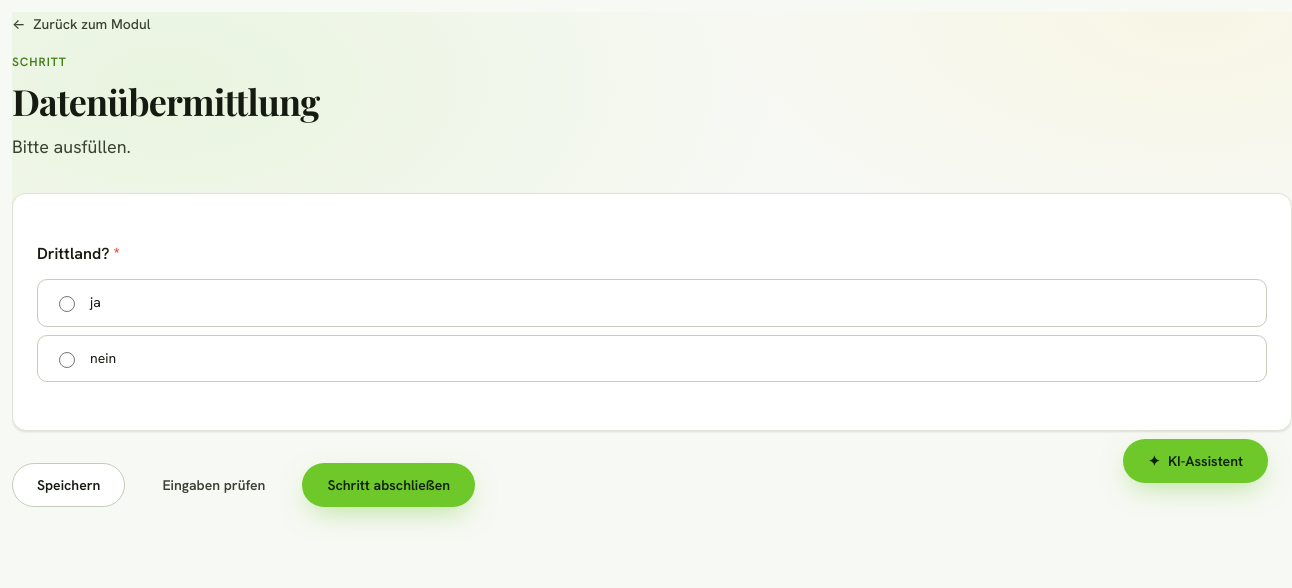
it: StepPage › renders inline validation errors from the save response
Check: the text "Drittland?" is shown, box [37, 243, 109, 264]
What coordinates should you click on to do the following:
click the button "Speichern"
I would click on:
 (69, 486)
Its box is [12, 464, 125, 508].
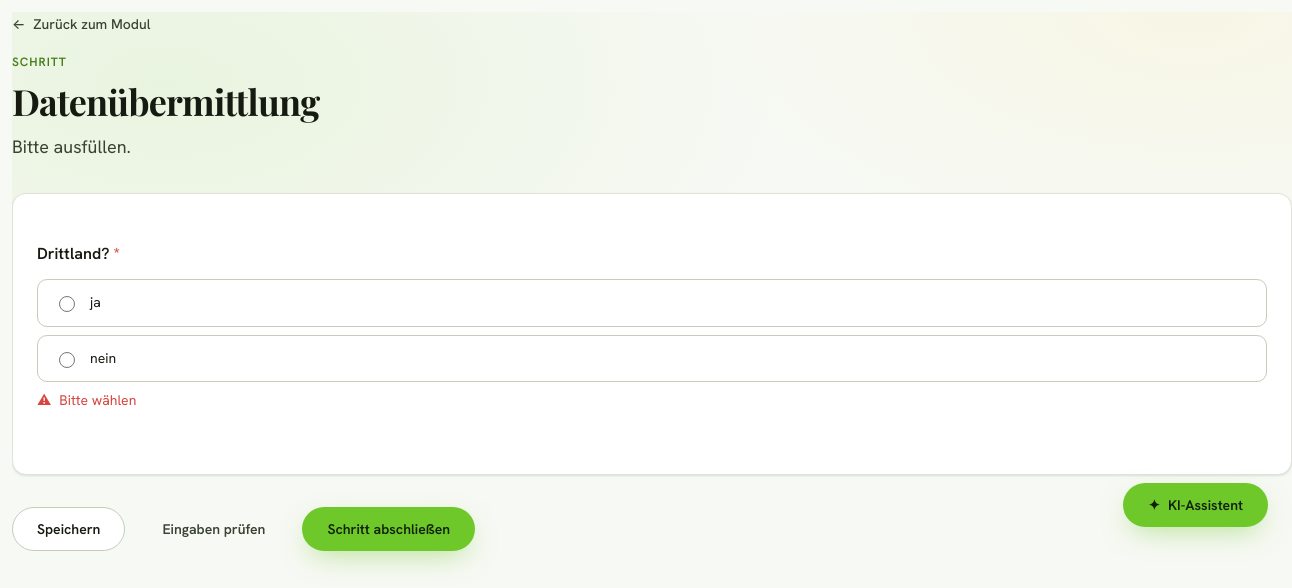
Check: the text "Bitte wählen" is shown, box [59, 392, 136, 410]
